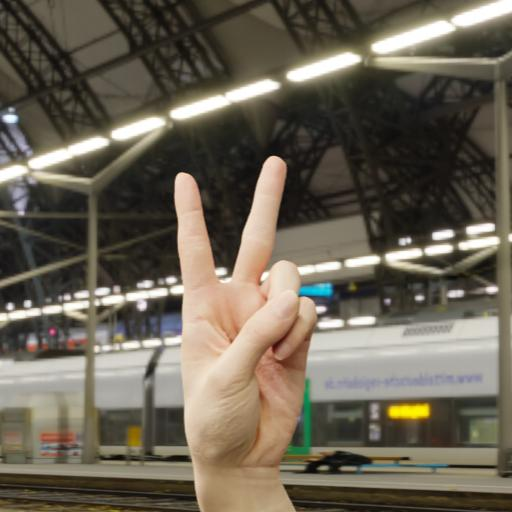V: (129, 137, 405, 512)
